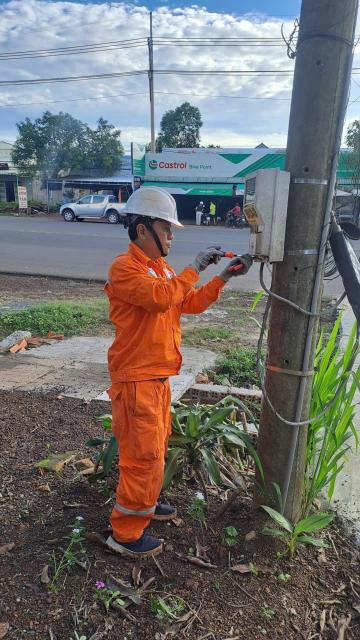gloves: (174, 240, 233, 271), (222, 242, 256, 285)
helmet: (123, 174, 189, 240)
shoes: (104, 519, 172, 564), (122, 491, 183, 522)
